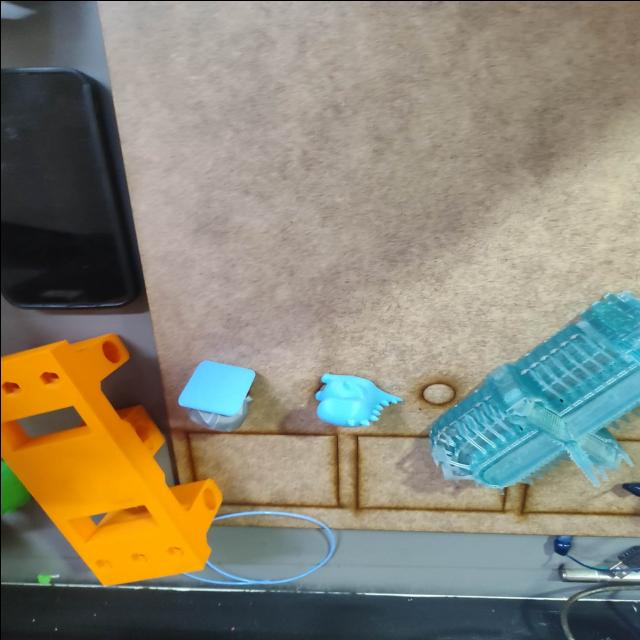DINO: (298, 362, 404, 437)
